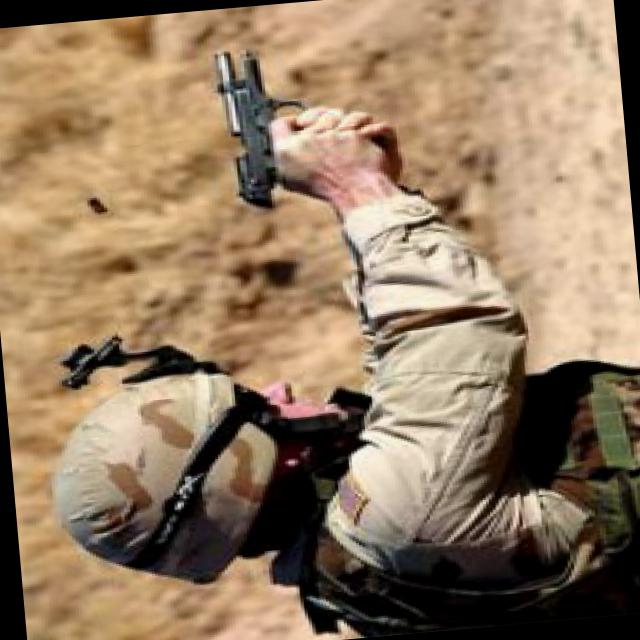handgun: (204, 43, 317, 226)
